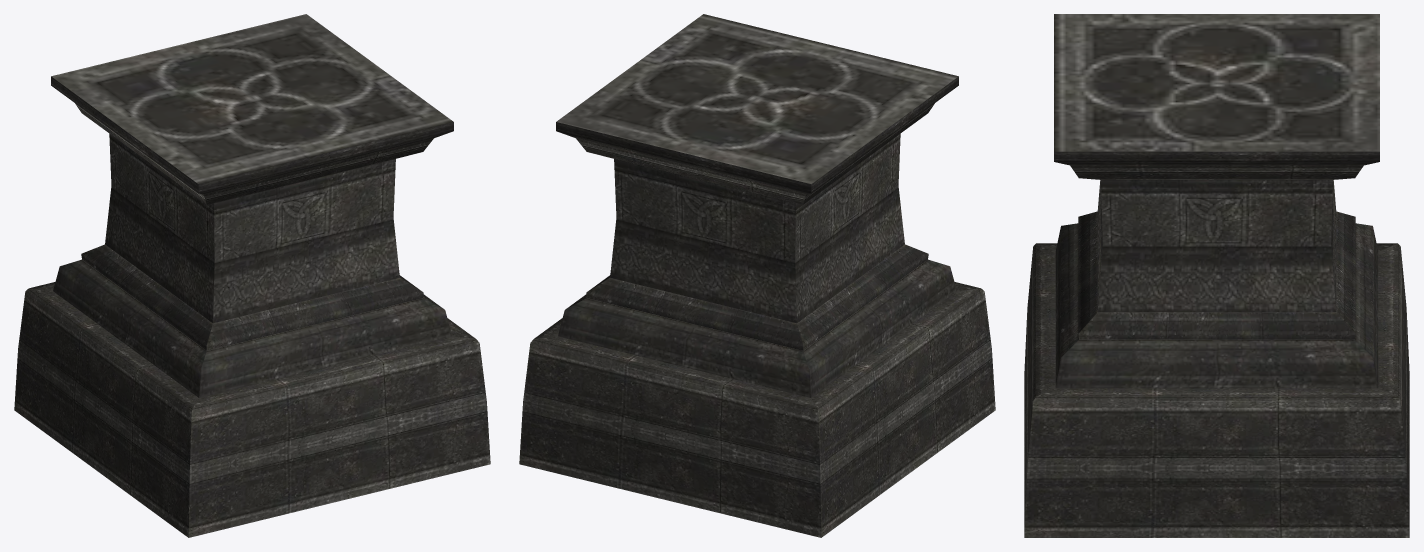
File: eso_gu4_StatuePedestal-transformed.glb
3 renders of one model, left to right at view 1: azimuth 30°, elevation 25°; view 2: azimuth 150°, elevation 25°; view 3: azimuth 270°, elevation 25°, orthographic. The views are drawn at different scales.
Parts seen in each view (by area): view 1: default; view 2: default; view 3: default.
Part boxes in pixels (x1,y1,x2,y2): default: [14, 14, 490, 537]; default: [519, 14, 995, 537]; default: [1024, 14, 1409, 537].
Bounding box in the file's own units: 2.03 × 2.18 × 2.03.
1 material, 1 textured.
